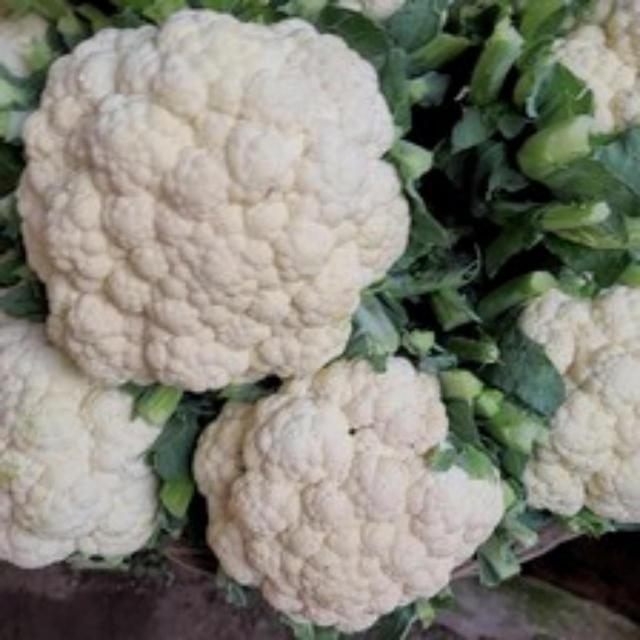cauliflower: (11, 3, 417, 404)
